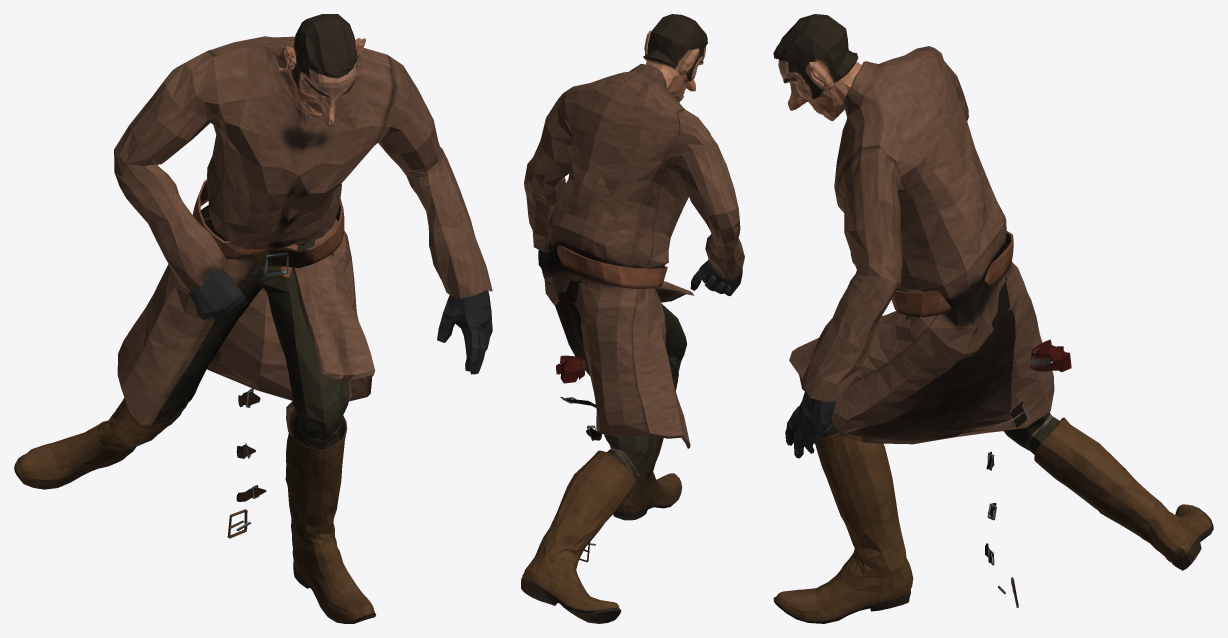
The model's file is sniper-inj-walk_joined_000011.obj.
3 views of the same model, side by side, from view 1: azimuth 30°, elevation 25°; view 2: azimuth 150°, elevation 25°; view 3: azimuth 270°, elevation 25° (orthographic). The views are drawn at different scales.
Parts seen in each view (by area): view 1: Shoes; view 2: Shoes; view 3: Shoes.
Part boxes in pixels (x1,y1,x2,y2): Shoes: [14, 14, 492, 623]; Shoes: [521, 14, 744, 623]; Shoes: [773, 14, 1213, 623].
Bounding box in the file's own units: 1.19 × 2.22 × 1.51.
